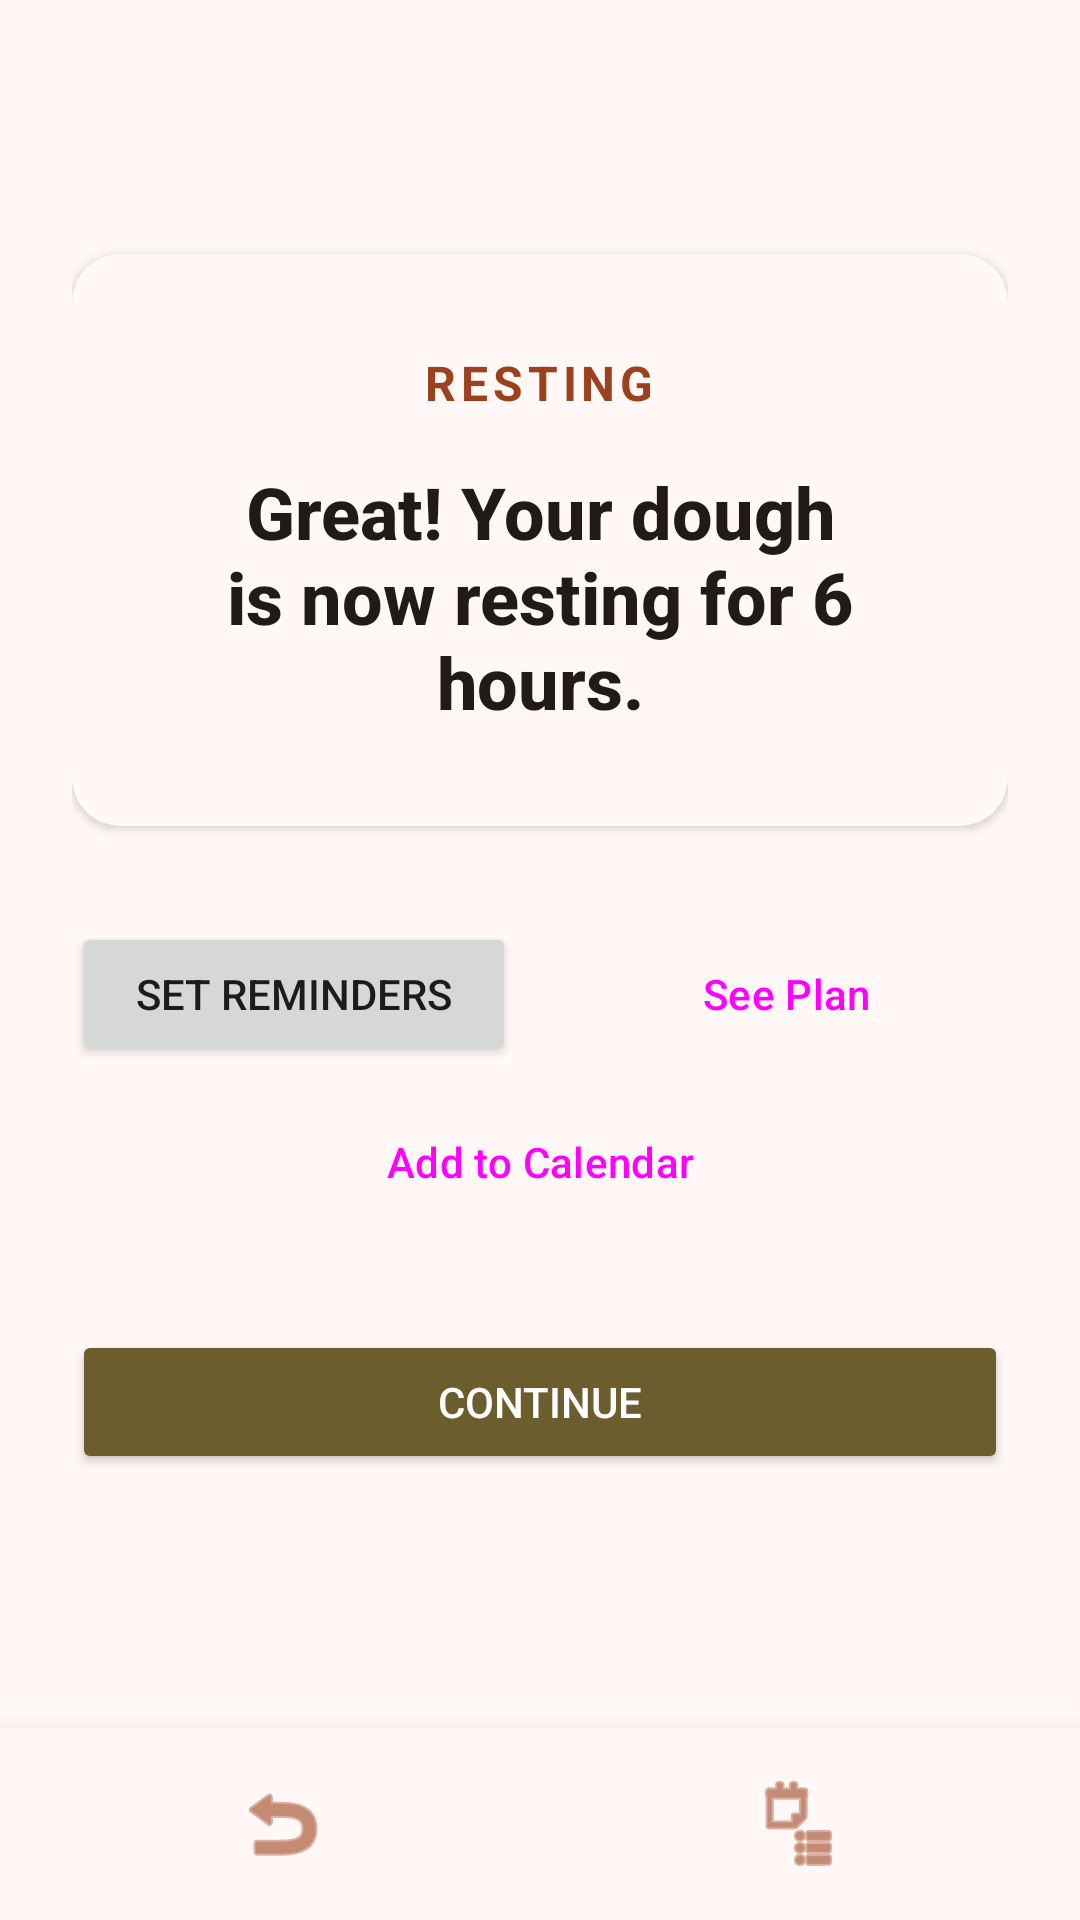

Where to tap for icons on this 1080px x 1920px app screen, as (x=x, y=y):
agenda: (x=798, y=1823)
revert: (x=283, y=1824)
